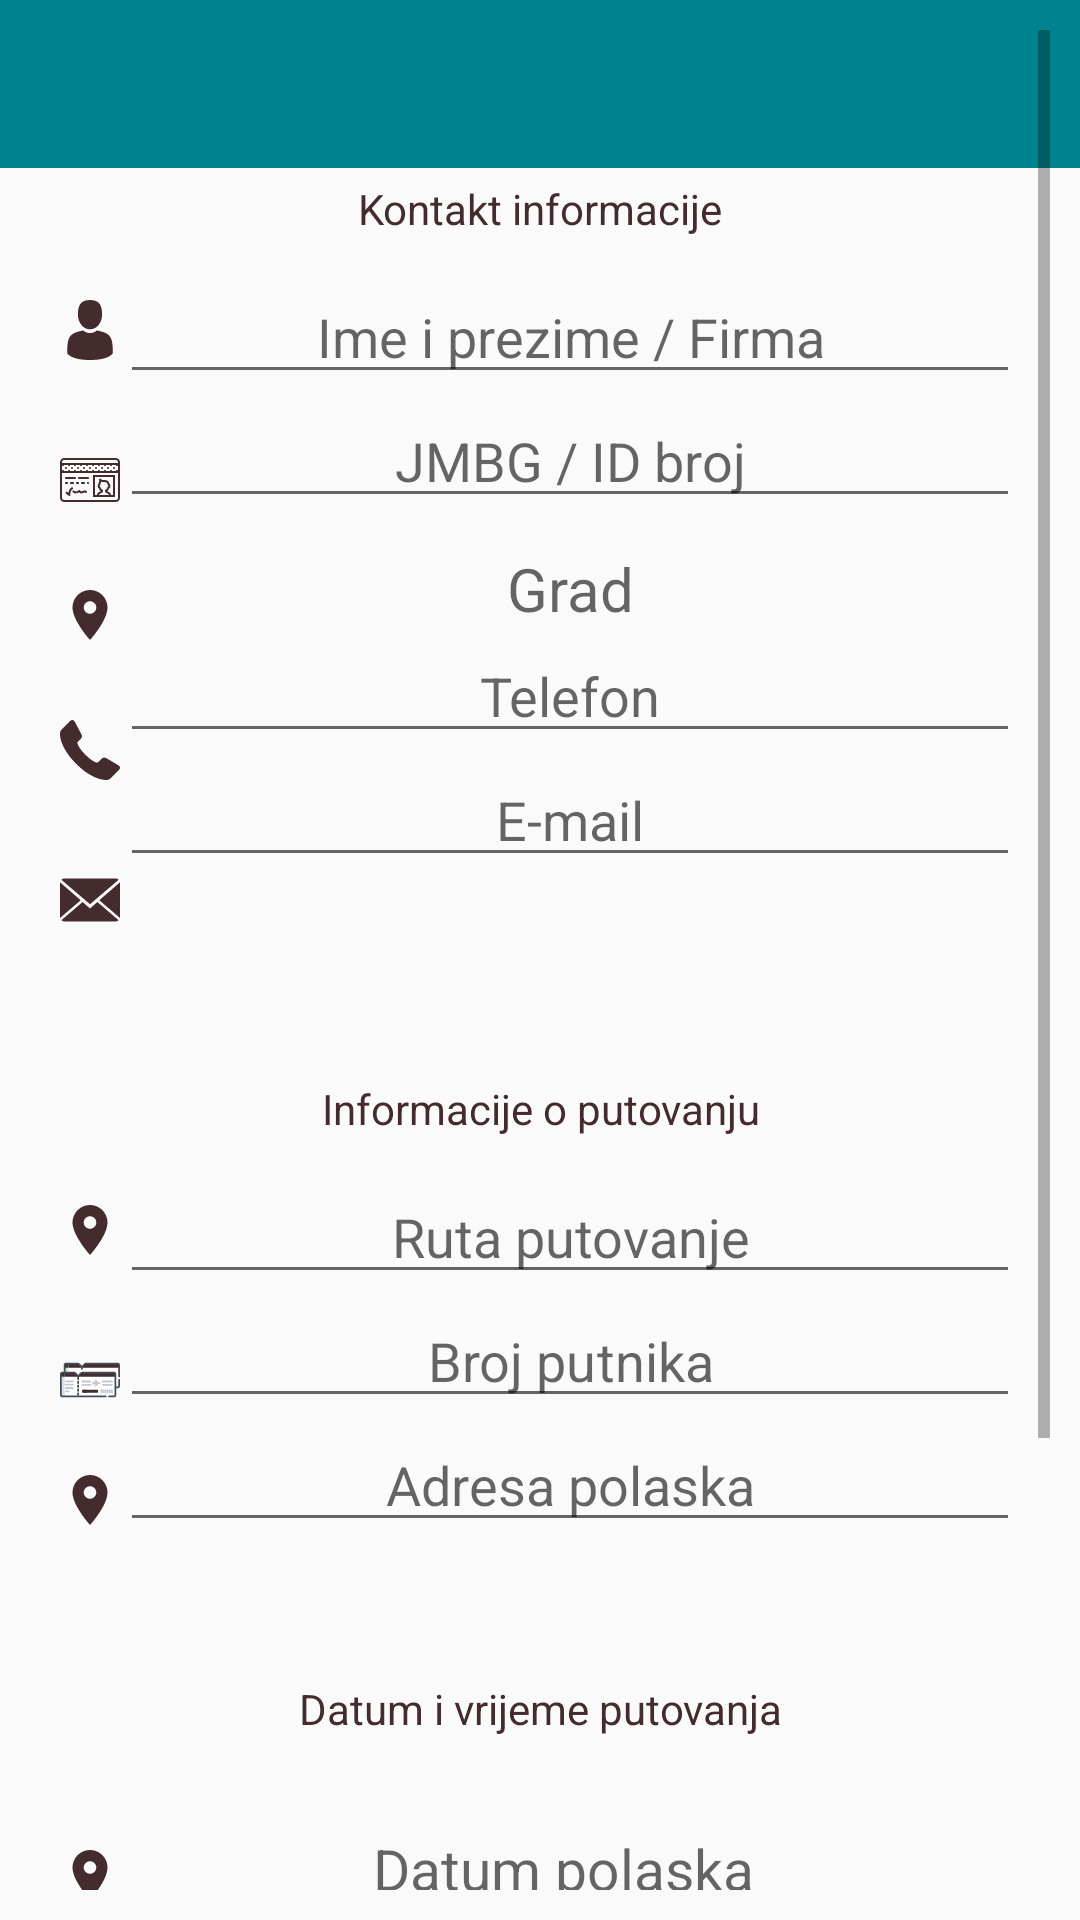

Named icons in this screenshot (1080×1920) and their centers, [x,y]:
close envelope: [90,900]
id card: [90,480]
location on: [90,615], [90,1230], [90,1500], [90,1870]
man user: [90,330]
phone receiver: [90,750]
plane tickets: [90,1380]
